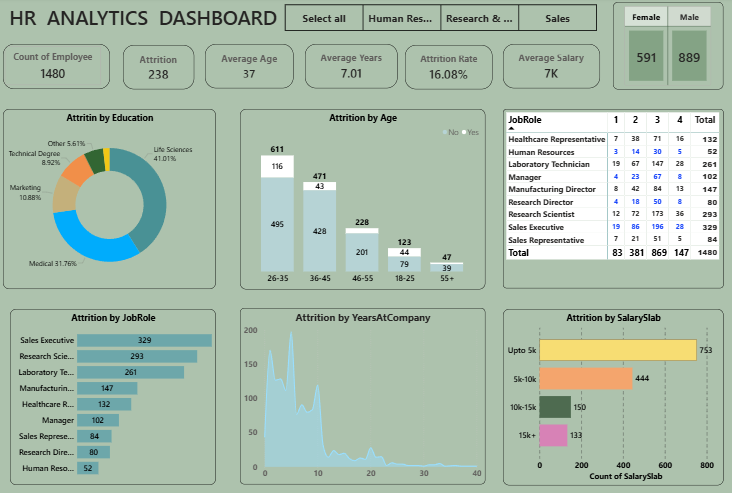

Layout of this report page (visuals, bound fields, positions):
{"tool":"powerbi","page":{"name":"Page 1","canvas":[2000,1350],"ordinal":0},"visuals":[{"type":"barChart","title":"Attrition by JobRole","fields":{"Category":["HR_Analytics.JobRole"],"Y":["CountNonNull(HR_Analytics.Attrition)"]},"box":[32.5,845.8,558.4,477.1],"z":0},{"type":"cardVisual","fields":{"Data":["CountNonNull(HR_Analytics.EmpID)"]},"box":[13.6,127.4,290.1,122],"z":1000},{"type":"cardVisual","fields":{"Data":["Avg(HR_Analytics.Age)"]},"box":[561.5,128.5,240.2,120.1],"z":2000},{"type":"cardVisual","fields":{"Data":["HR_Analytics.Attrition filter"]},"box":[338,131.3,192.7,120.1],"z":3000},{"type":"cardVisual","fields":{"Data":["Avg(HR_Analytics.MonthlyIncome)"]},"box":[1368.7,128.5,262.6,120.1],"z":4000},{"type":"cardVisual","fields":{"Data":["Avg(HR_Analytics.YearsAtCompany)"]},"box":[832.4,128.5,251.4,120.1],"z":5000},{"type":"donutChart","title":"Attritin by Education","fields":{"Y":["CountNonNull(HR_Analytics.EducationField)"],"Category":["HR_Analytics.EducationField"]},"box":[13.6,303.6,577.4,488],"z":6000},{"type":"columnChart","title":" Attrition by Age","fields":{"Category":["HR_Analytics.AgeGroup"],"Y":["CountNonNull(HR_Analytics.Attrition)"],"Series":["HR_Analytics.Attrition"]},"box":[656.4,304.5,664.8,488.8],"z":7000},{"type":"pivotTable","fields":{"Rows":["HR_Analytics.JobRole"],"Values":["CountNonNull(HR_Analytics.JobInvolvement)"],"Columns":["HR_Analytics.JobInvolvement"]},"box":[1368.7,304.5,597.8,486],"z":8000},{"type":"cardVisual","fields":{"Rows":["HR_Analytics.Gender"],"Data":["Sum(HR_Analytics.EmployeeCount)"]},"box":[1667.6,14,298.9,237.4],"z":9000},{"type":"advancedSlicerVisual","fields":{"Values":["HR_Analytics.Department"]},"box":[773.7,0,857.5,92.2],"z":10000},{"type":"textbox","box":[14,14,759.8,114.5],"z":11000},{"type":"lineChart","title":"Attrition by YearsAtCompany","fields":{"Category":["HR_Analytics.YearsAtCompany"],"Y":["CountNonNull(HR_Analytics.Attrition)"]},"box":[656.4,843.6,664.8,477.7],"z":12000},{"type":"barChart","title":"Attrition by SalarySlab","fields":{"Category":["HR_Analytics.SalarySlab"],"Y":["CountNonNull(HR_Analytics.SalarySlab)"]},"box":[1368.7,846.4,597.8,477.7],"z":13000},{"type":"cardVisual","fields":{"Data":["HR_Analytics.Attrition Rate"]},"box":[1103.4,131.3,237.4,120.1],"z":14000}]}

Visuals, with their boxes in screenshot pixels (x1, y1, x2, y2), scaled from the page's 2000x1350 canvas onto the 732x493 screenshot:
"Attrition by JobRole" barChart: [12,309,216,483]
cardVisual - CountNonNull(HR_Analytics.EmpID): [5,47,111,91]
cardVisual - Avg(HR_Analytics.Age): [206,47,293,91]
cardVisual - HR_Analytics.Attrition filter: [124,48,194,92]
cardVisual - Avg(HR_Analytics.MonthlyIncome): [501,47,597,91]
cardVisual - Avg(HR_Analytics.YearsAtCompany): [305,47,397,91]
"Attritin by Education" donutChart: [5,111,216,289]
" Attrition by Age" columnChart: [240,111,484,290]
pivotTable - HR_Analytics.JobRole x CountNonNull(HR_Analytics.JobInvolvement): [501,111,720,289]
cardVisual - HR_Analytics.Gender x Sum(HR_Analytics.EmployeeCount): [610,5,720,92]
advancedSlicerVisual - HR_Analytics.Department: [283,0,597,34]
textbox: [5,5,283,47]
"Attrition by YearsAtCompany" lineChart: [240,308,484,483]
"Attrition by SalarySlab" barChart: [501,309,720,484]
cardVisual - HR_Analytics.Attrition Rate: [404,48,491,92]
